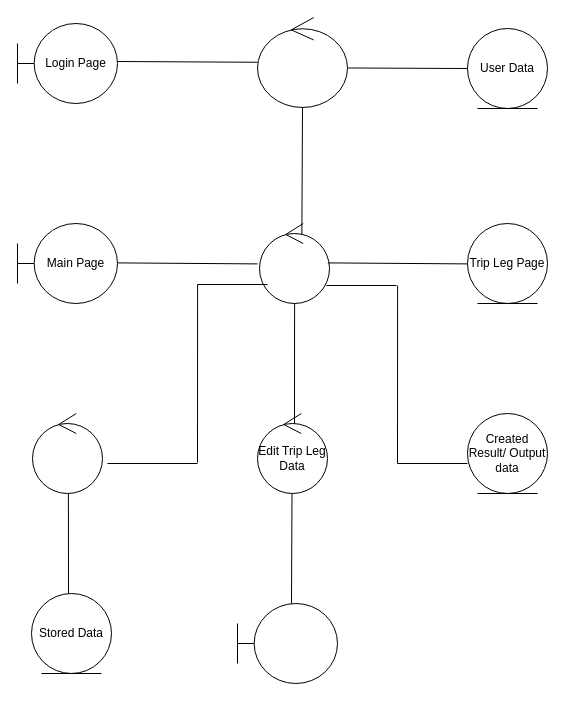
Image size: 565x701. Some labels were removed from this diagram. Here are the shapes that lost their labels. From the top down, the centre of each, then its label:
point 302,62: Authentication
point 294,263: Create Trip Legs
point 67,453: Filtering
point 287,643: Edit Trip Leg Page
